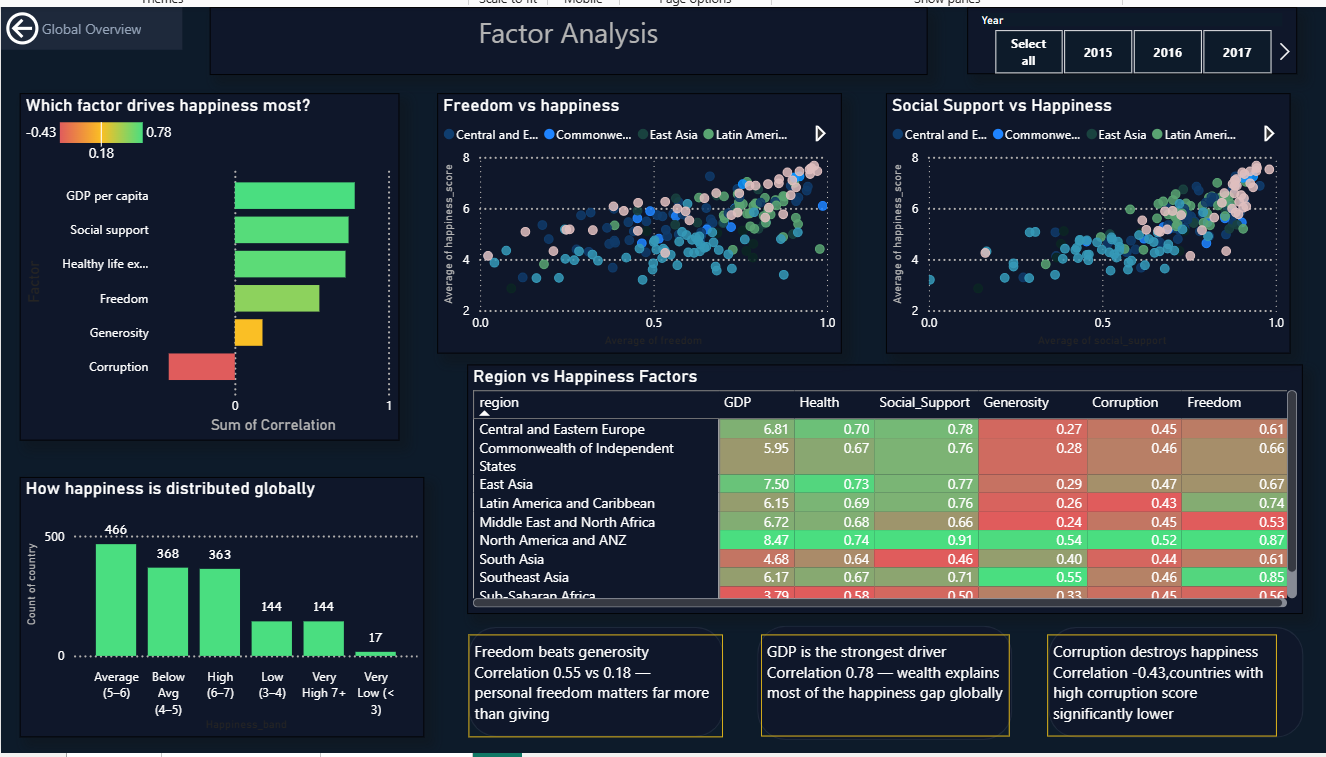

Layout of this report page (visuals, bound fields, positions):
{"tool":"powerbi","page":{"name":"Factor Analysis","canvas":[1280,720],"ordinal":2},"visuals":[{"type":"actionButton","box":[0,0,175,41.2],"z":0},{"type":"clusteredBarChart","title":"Which factor drives happiness most?","fields":{"Category":["FactorCorrelation.Factor"],"Y":["Sum(FactorCorrelation.Correlation)"]},"box":[30.2,70,366.8,334.2],"z":1000},{"type":"pivotTable","title":"Region vs happiness factors","fields":{"Rows":["world_happiness_cleaned.region"],"Values":["Avg(world_happiness_cleaned.gdp)","Avg(world_happiness_cleaned.health)","Avg(world_happiness_cleaned.social_support)","Avg(world_happiness_cleaned.generosity)","Avg(world_happiness_cleaned.corruption)","Avg(world_happiness_cleaned.freedom)"]},"box":[450.8,336.2,805.9,248.2],"z":2000},{"type":"scatterChart","title":"Freedom vs happiness","fields":{"X":["Avg(world_happiness_cleaned.freedom)"],"Y":["Avg(world_happiness_cleaned.happiness_score)"],"Category":["world_happiness_cleaned.country"],"Series":["world_happiness_cleaned.region"]},"box":[421,70,389.7,250.9],"z":3000},{"type":"scatterChart","title":"Social Support vs Happiness ","fields":{"Y":["Avg(world_happiness_cleaned.happiness_score)"],"Category":["world_happiness_cleaned.country"],"Series":["world_happiness_cleaned.region"],"X":["Avg(world_happiness_cleaned.social_support)"]},"box":[854.2,70,389.7,250.9],"z":4000},{"type":"clusteredColumnChart","title":"How happiness is distributed globally","fields":{"Category":["world_happiness_cleaned.Happiness_band"],"Y":["CountNonNull(world_happiness_cleaned.country)"]},"box":[30.2,421,390.9,250.9],"z":5000},{"type":"shape","box":[450.8,598.9,246,105.8],"z":6000},{"type":"shape","box":[730.2,596.7,246,110.2],"z":7000},{"type":"shape","box":[1010.8,598.9,246,106.9],"z":8000},{"type":"textbox","box":[733.2,605.7,240.3,98.1],"z":9000},{"type":"textbox","box":[451.2,605.7,245.2,99.3],"z":10000},{"type":"textbox","box":[1010.3,605.7,221.9,98.1],"z":11000},{"type":"textbox","box":[201.5,0,902.4,55.5],"z":12001},{"type":"slicer","title":"Year","fields":{"Values":["world_happiness_cleaned.year"]},"box":[932,0,318,65],"z":12002}]}

Visuals, with their boxes on the page's 1280x720 design canvas (x1, y1, x2, y2). These are canvas units, not pixel positions in the 1326x757 screenshot, which may show the page scaled, cropped or inside an application window:
actionButton: region(0, 0, 175, 41)
"Which factor drives happiness most?" clusteredBarChart: region(30, 70, 397, 404)
"Region vs happiness factors" pivotTable: region(451, 336, 1257, 584)
"Freedom vs happiness" scatterChart: region(421, 70, 811, 321)
"Social Support vs Happiness " scatterChart: region(854, 70, 1244, 321)
"How happiness is distributed globally" clusteredColumnChart: region(30, 421, 421, 672)
shape: region(451, 599, 697, 705)
shape: region(730, 597, 976, 707)
shape: region(1011, 599, 1257, 706)
textbox: region(733, 606, 974, 704)
textbox: region(451, 606, 696, 705)
textbox: region(1010, 606, 1232, 704)
textbox: region(202, 0, 1104, 56)
"Year" slicer: region(932, 0, 1250, 65)
